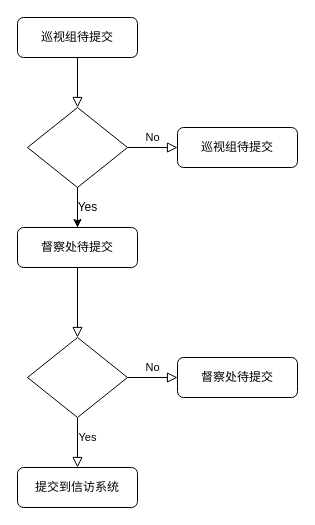
Some shapes in this 315 by 525 pixel diagram are drawn without their labels. Here are the shapes that lost their labels. From the top down, the centre of each, then its label:
At (77,147): "提交信访件".
At (77,377): "移交信访件到 信访系统".
